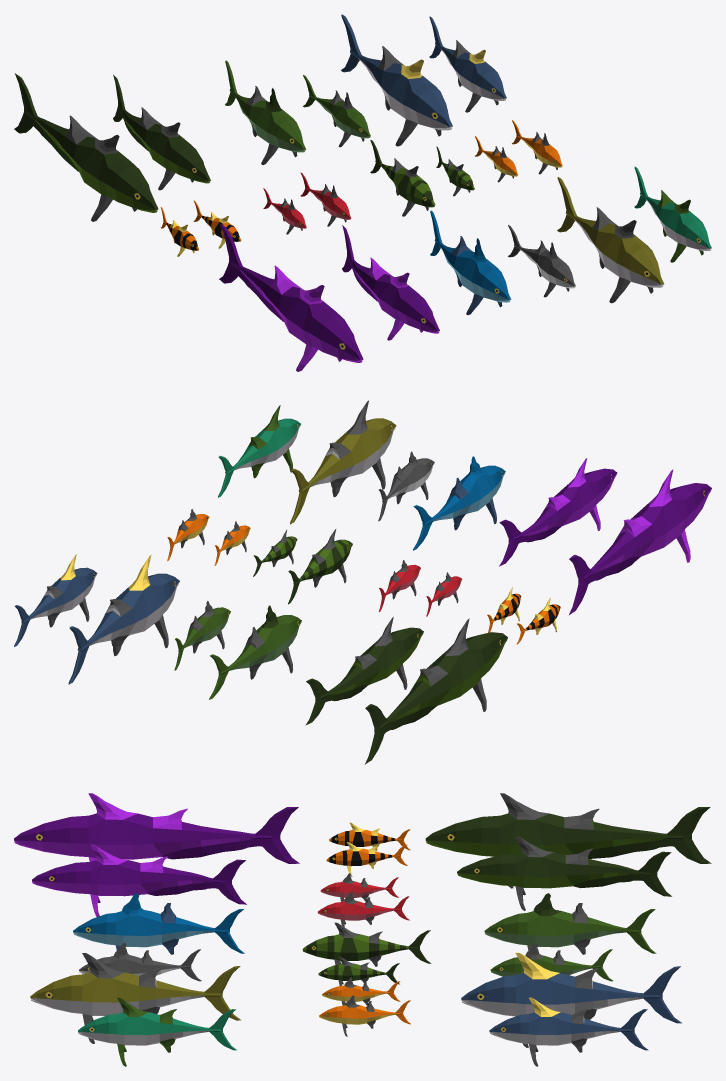
File: mini low poly fish pack .fbx
3 renders of one model, top to bottom at view 1: azimuth 30°, elevation 25°; view 2: azimuth 150°, elevation 25°; view 3: azimuth 270°, elevation 25°, orthographic.
Visible parts, largest first — view 1: Цилиндр.006, Цилиндр.018, Цилиндр, Цилиндр.014, Цилиндр.007, Цилиндр.019, Цилиндр.015, Цилиндр.001, Цилиндр.003, Цилиндр.016, Цилиндр.002, Цилиндр.004 (+8 smaller); view 2: Цилиндр.018, Цилиндр.006, Цилиндр, Цилиндр.014, Цилиндр.019, Цилиндр.007, Цилиндр.015, Цилиндр.001, Цилиндр.003, Цилиндр.016, Цилиндр.002, Цилиндр.004 (+8 smaller); view 3: Цилиндр.018, Цилиндр.006, Цилиндр, Цилиндр.014, Цилиндр.007, Цилиндр.019, Цилиндр.001, Цилиндр.015, Цилиндр.003, Цилиндр.016, Цилиндр.002, Цилиндр.004 (+8 smaller).
Part boxes in pixels (<box>): Цилиндр.006: <box>14,73,158,221</box>; Цилиндр.018: <box>219,223,363,371</box>; Цилиндр: <box>341,14,452,146</box>; Цилиндр.014: <box>557,177,664,303</box>; Цилиндр.007: <box>113,75,210,190</box>; Цилиндр.019: <box>342,225,439,340</box>; Цилиндр.015: <box>430,210,511,314</box>; Цилиндр.001: <box>225,60,305,164</box>; Цилиндр.003: <box>429,16,506,112</box>; Цилиндр.016: <box>634,166,711,262</box>; Цилиндр.002: <box>370,140,435,216</box>; Цилиндр.004: <box>303,75,370,147</box>; Цилиндр.018: <box>569,469,711,614</box>; Цилиндр.006: <box>365,618,507,764</box>; Цилиндр: <box>68,555,179,684</box>; Цилиндр.014: <box>290,400,396,524</box>; Цилиндр.019: <box>499,458,617,566</box>; Цилиндр.007: <box>305,617,423,725</box>; Цилиндр.015: <box>413,456,505,550</box>; Цилиндр.001: <box>209,605,301,699</box>; Цилиндр.003: <box>14,554,97,646</box>; Цилиндр.016: <box>218,405,301,497</box>; Цилиндр.002: <box>288,529,352,604</box>; Цилиндр.004: <box>174,601,230,670</box>; Цилиндр.018: <box>14,793,299,863</box>; Цилиндр.006: <box>425,793,711,888</box>; Цилиндр: <box>461,952,681,1047</box>; Цилиндр.014: <box>30,953,241,1043</box>; Цилиндр.007: <box>457,836,671,910</box>; Цилиндр.019: <box>32,844,246,916</box>; Цилиндр.001: <box>484,893,656,954</box>; Цилиндр.015: <box>73,893,244,954</box>; Цилиндр.003: <box>489,997,648,1066</box>; Цилиндр.016: <box>78,997,236,1066</box>; Цилиндр.002: <box>302,922,431,966</box>; Цилиндр.004: <box>490,943,613,981</box>.
Size of the model in its own units: 930 by 194 by 1337.
